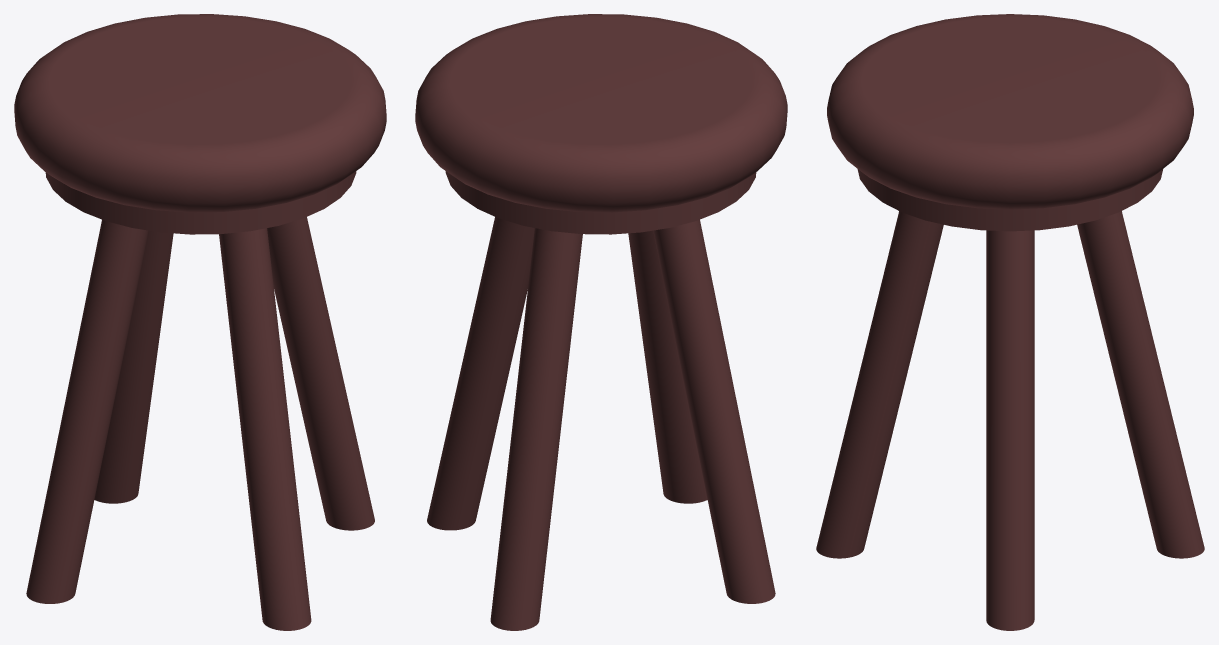
Rendered from Tabouret3_1.fbx.
3 renders of one model, left to right at view 1: azimuth 30°, elevation 25°; view 2: azimuth 150°, elevation 25°; view 3: azimuth 270°, elevation 25°, orthographic.
Visible parts, largest first — view 1: polySurface972, pCylinder1640, pCylinder1641; view 2: polySurface972, pCylinder1640, pCylinder1641; view 3: pCylinder1640, polySurface972, pCylinder1641.
Boxes of the visible parts, box(x1,y1,x2,y2) form: polySurface972: box(26, 217, 374, 630); pCylinder1640: box(14, 14, 386, 212); pCylinder1641: box(45, 171, 356, 234); polySurface972: box(427, 217, 775, 630); pCylinder1640: box(415, 14, 787, 212); pCylinder1641: box(445, 171, 756, 234); pCylinder1640: box(827, 14, 1193, 209); polySurface972: box(816, 211, 1204, 630); pCylinder1641: box(857, 169, 1162, 231).
Bounding box in the file's own units: 39.54 × 52.62 × 39.53.
